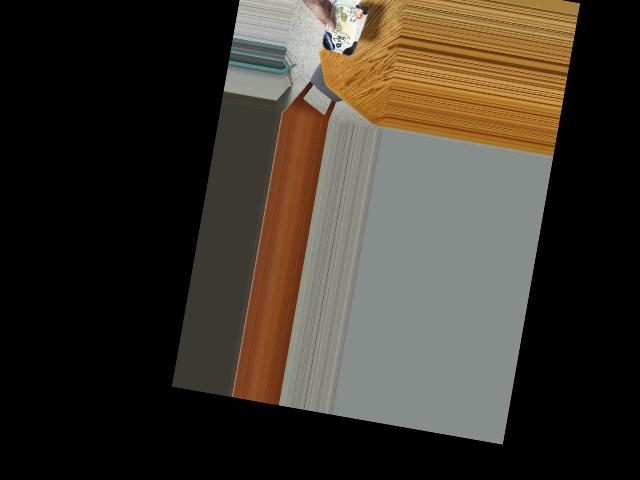cheese: (321, 3, 365, 55)
